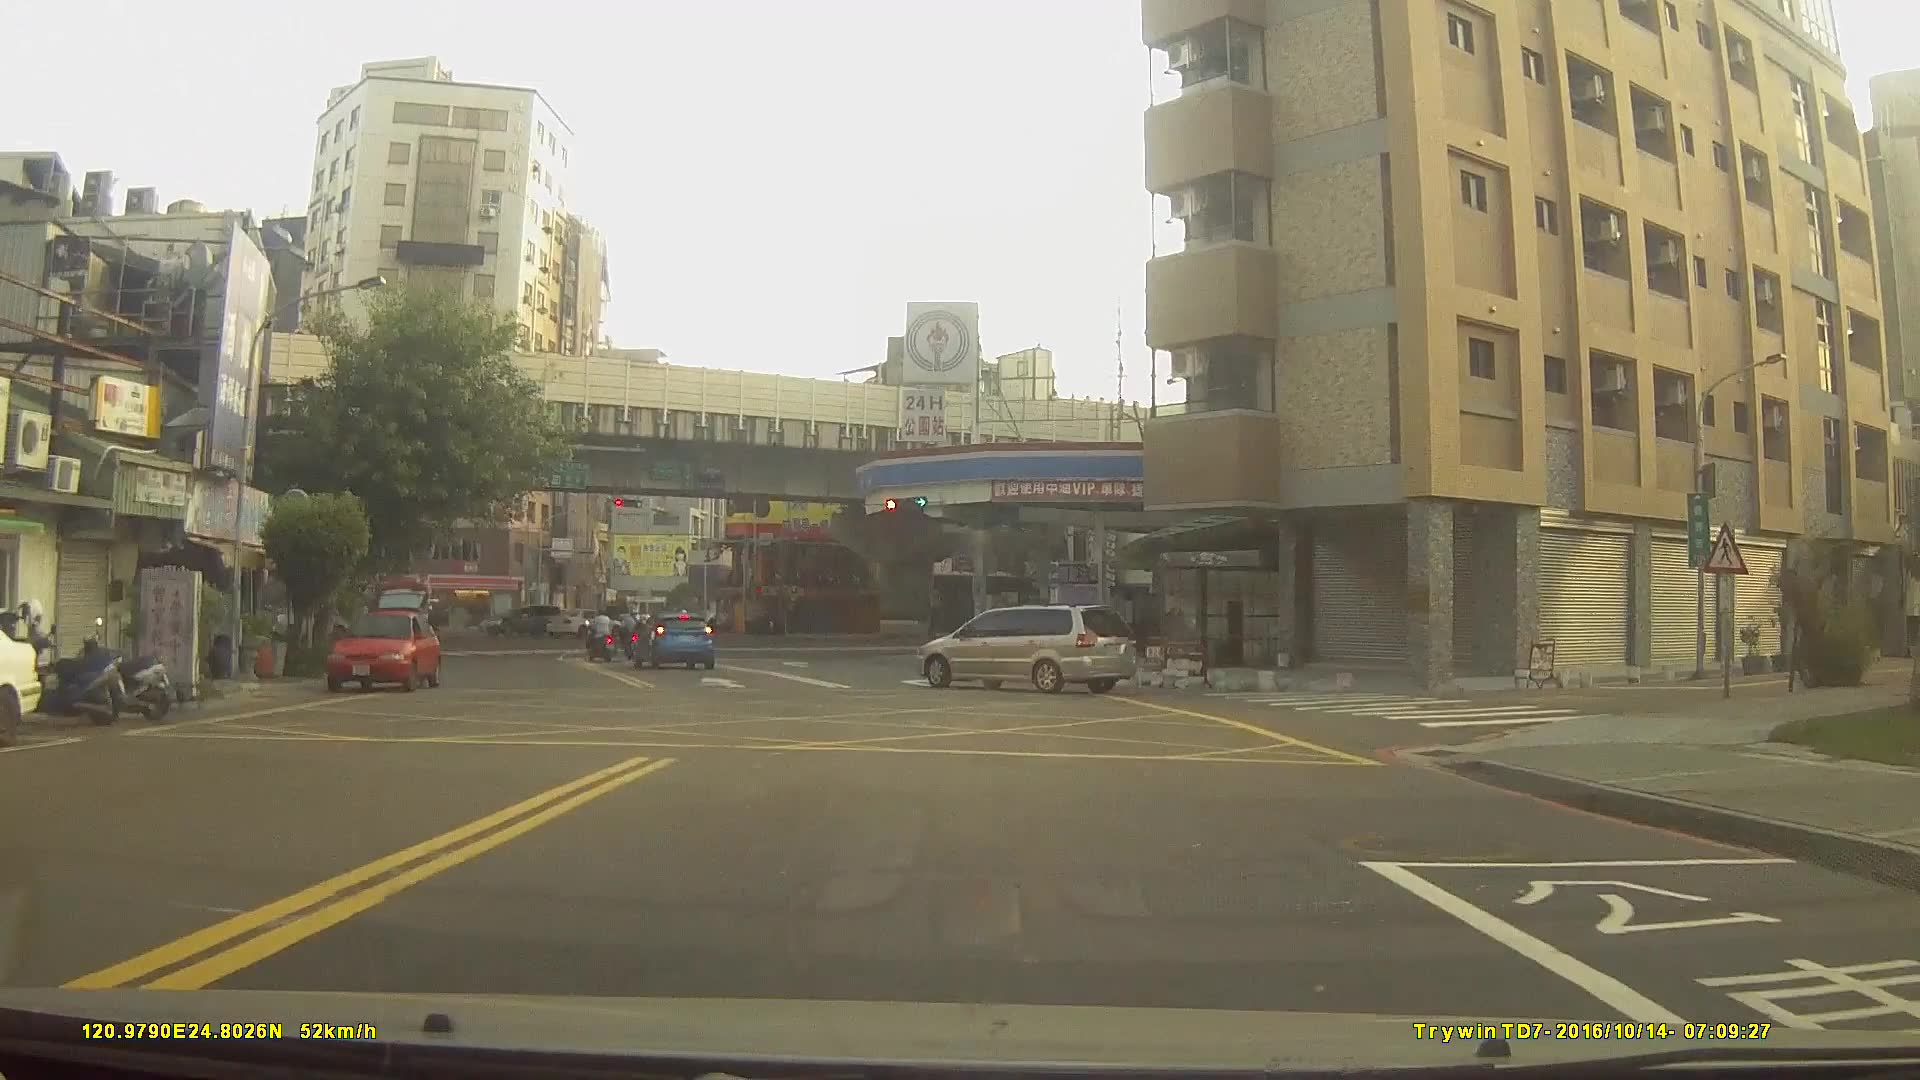rider: (586, 610, 618, 664)
vehicle: (915, 602, 1136, 691), (323, 606, 443, 690), (625, 611, 713, 669), (480, 604, 562, 638), (543, 606, 620, 637)
